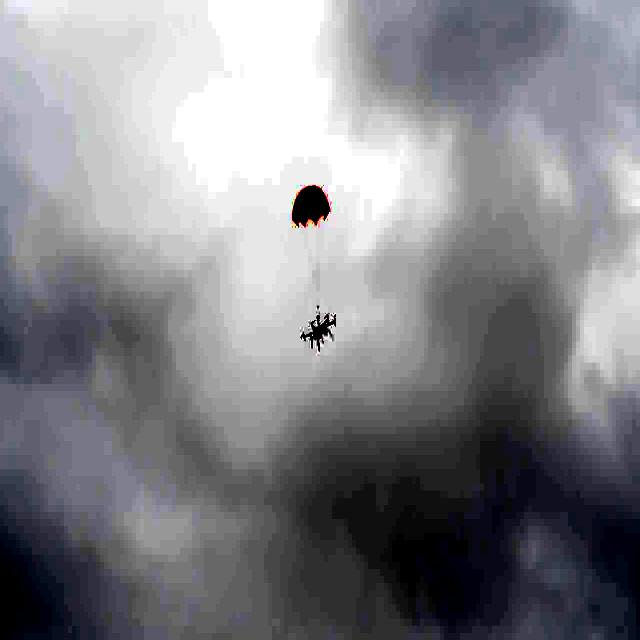drone: (298, 313, 339, 352)
